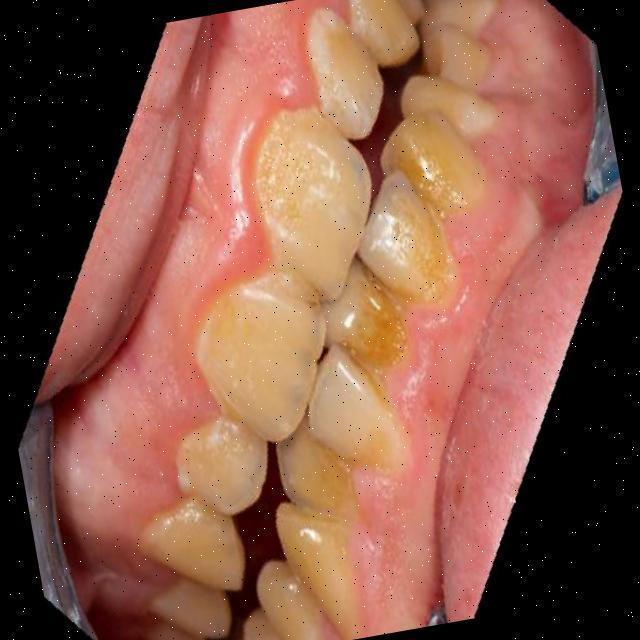calculus: (364, 205, 473, 326), (370, 112, 480, 226), (344, 286, 436, 394)
